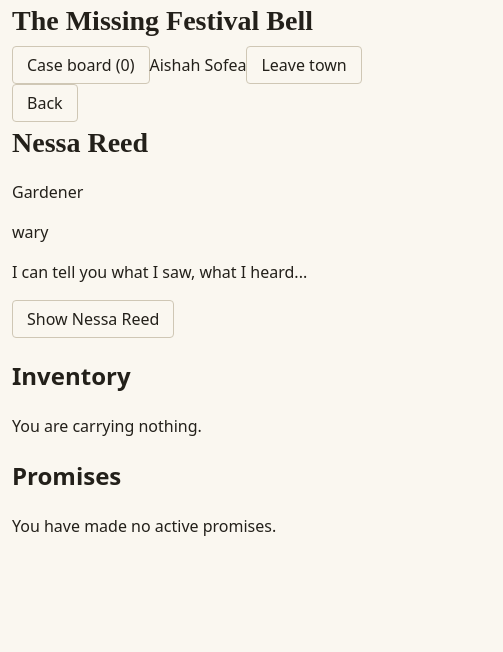
Test case: Encounter — Show picker (P4-20 acceptance 1) › shows nothing-to-show when there are no clues or items
Click the button "Show Nessa Reed" at [93, 319], box [12,300,174,338]
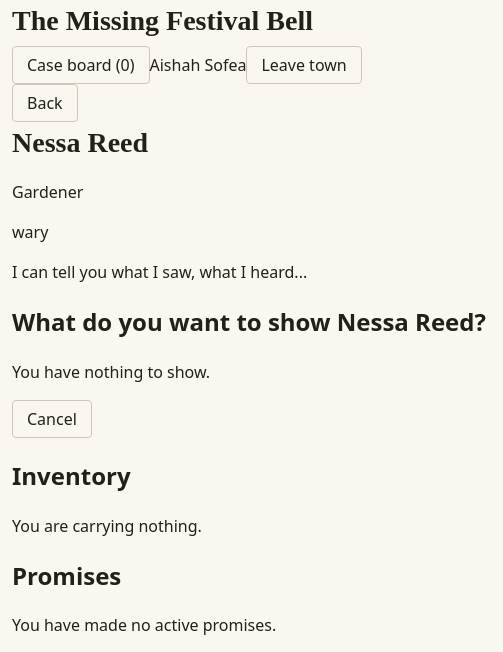
Expected: the text "You have nothing to show." is shown, [12,361,210,383]
